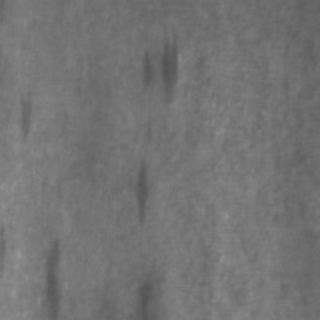inclusion: (133, 28, 181, 102), (126, 155, 154, 227), (38, 234, 62, 316), (11, 85, 35, 145)
